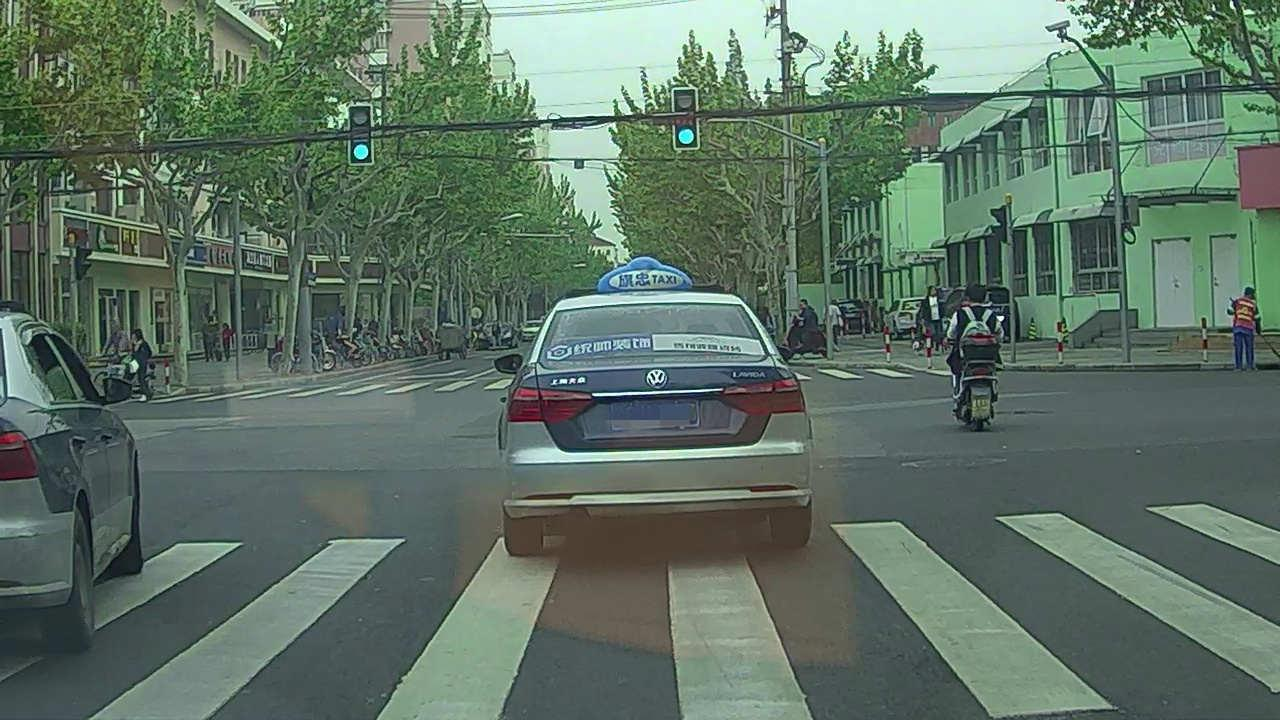traffic_light: (674, 91, 699, 149), (350, 105, 373, 163)
